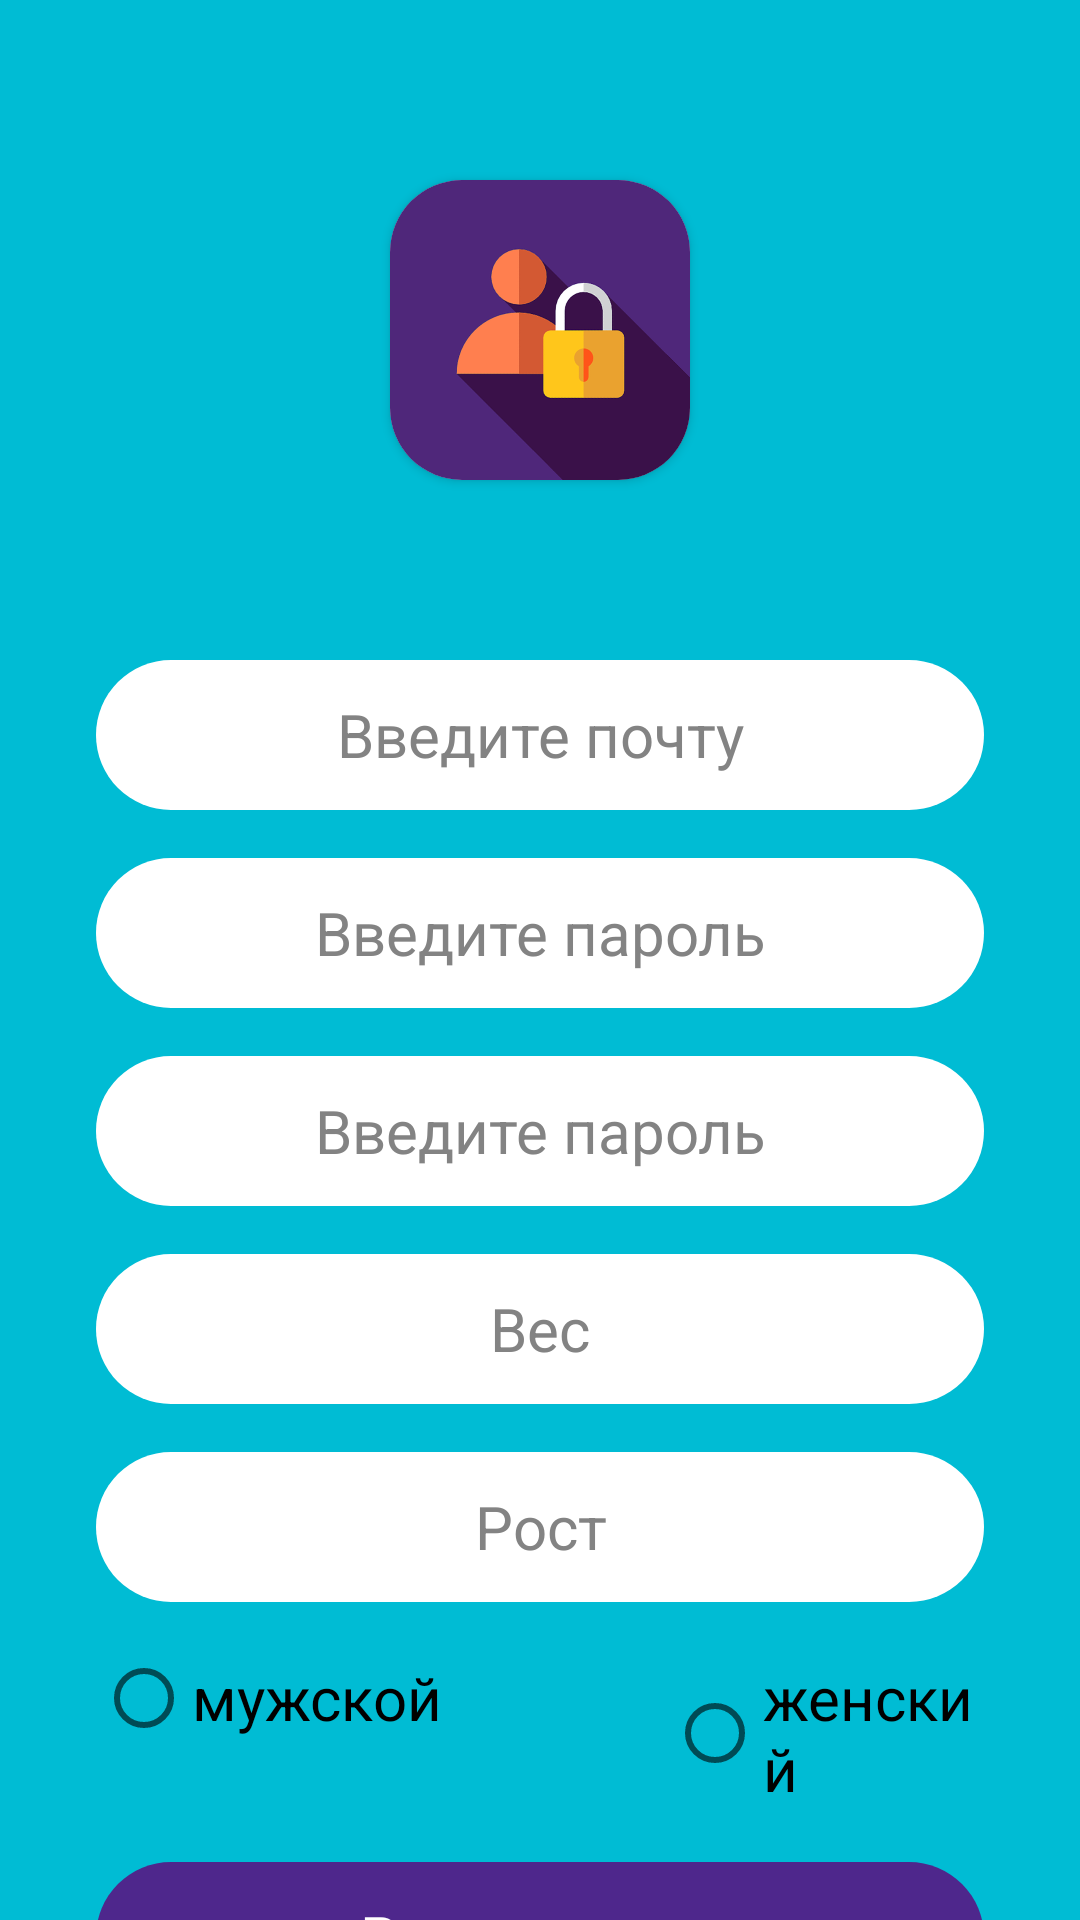

Where to tap for icons on this 1080w x 1920h app screen, as (x=x, y=y):
registration: (x=540, y=330)
